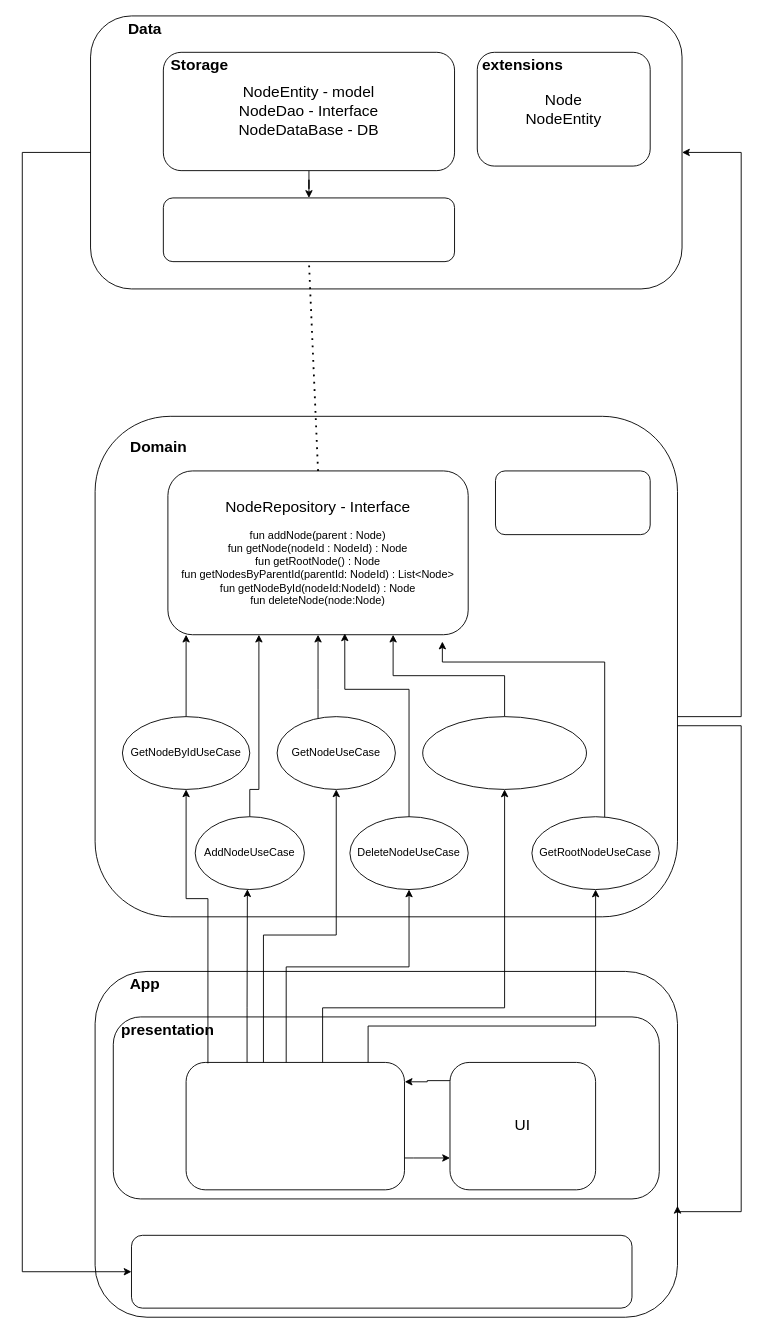
The diagram is 764 pixels wide and 1333 high, and some of its shapes have lost their labels. Here are the shapes that lost their labels. From the top down, the centre of each, then its label:
(x=308, y=229): NodeRepositoryImpl - Implementation
(x=572, y=502): Node - model NodeId - model
(x=504, y=752): GetNodesByParentUseCase
(x=294, y=1126): MyViewModel
(x=381, y=1271): DI
